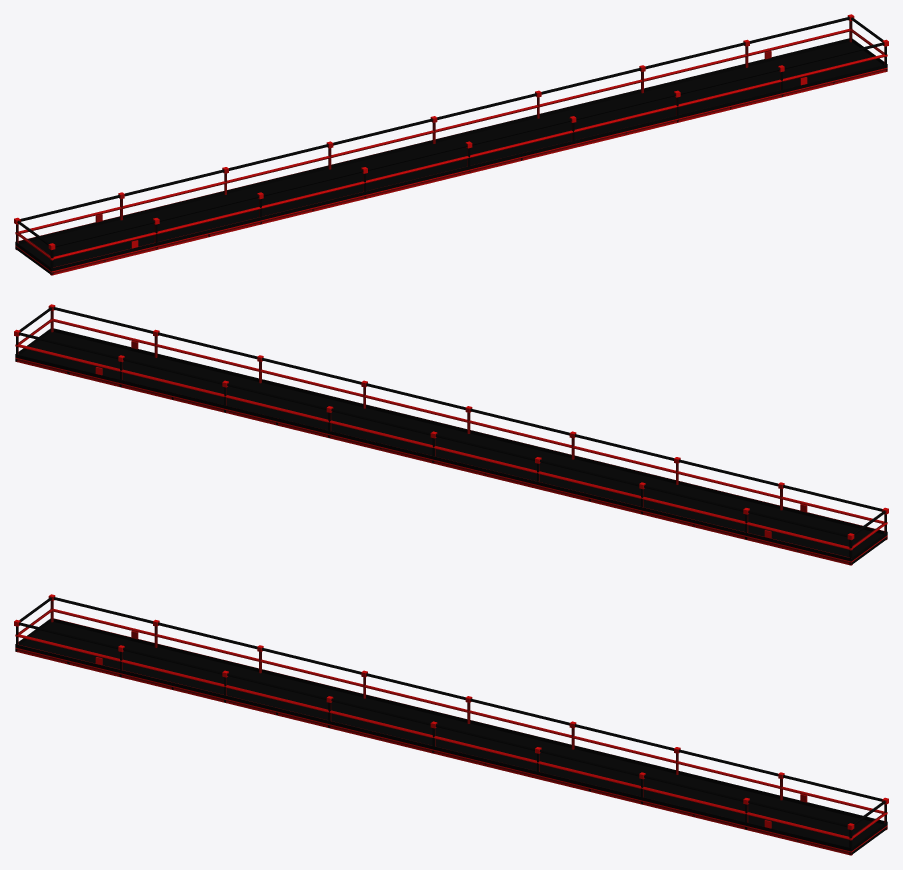
Rendered from hanging_scaffold.glb.
3 renders of one model, top to bottom at view 1: azimuth 30°, elevation 25°; view 2: azimuth 150°, elevation 25°; view 3: azimuth 330°, elevation 25°, orthographic.
Visible parts, largest first — view 1: hanging_scaffold; view 2: hanging_scaffold; view 3: hanging_scaffold.
Boxes of the visible parts, bbox=[...] form: hanging_scaffold: bbox=[14, 14, 888, 275]; hanging_scaffold: bbox=[14, 304, 888, 565]; hanging_scaffold: bbox=[14, 594, 888, 855].
Size of the model in its own units: 40.08 by 1.39 by 3.08.
